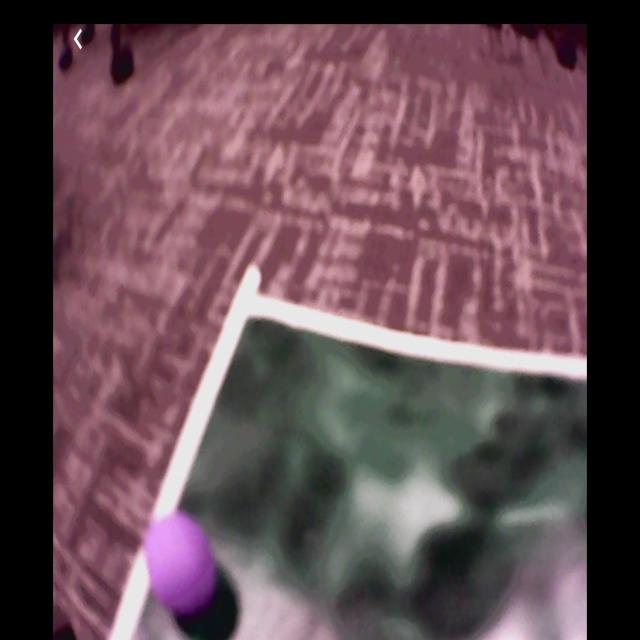ball: (148, 514, 218, 617)
